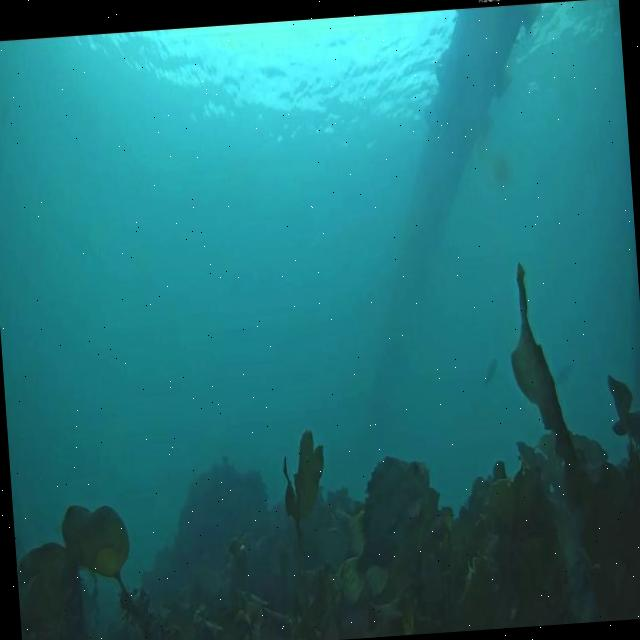fish: (328, 452, 438, 608), (551, 358, 576, 392), (481, 349, 500, 387)
